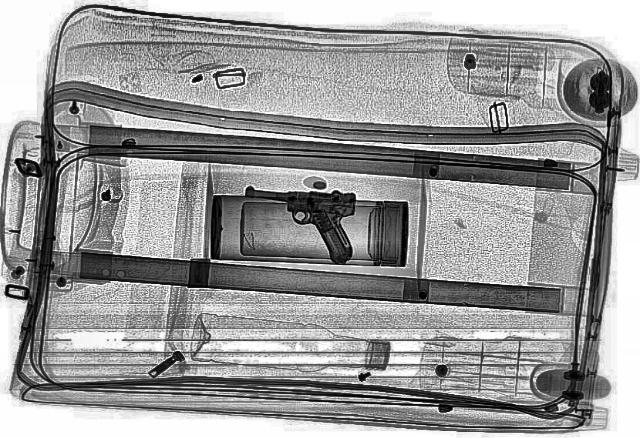Gun: (232, 185, 364, 266)
